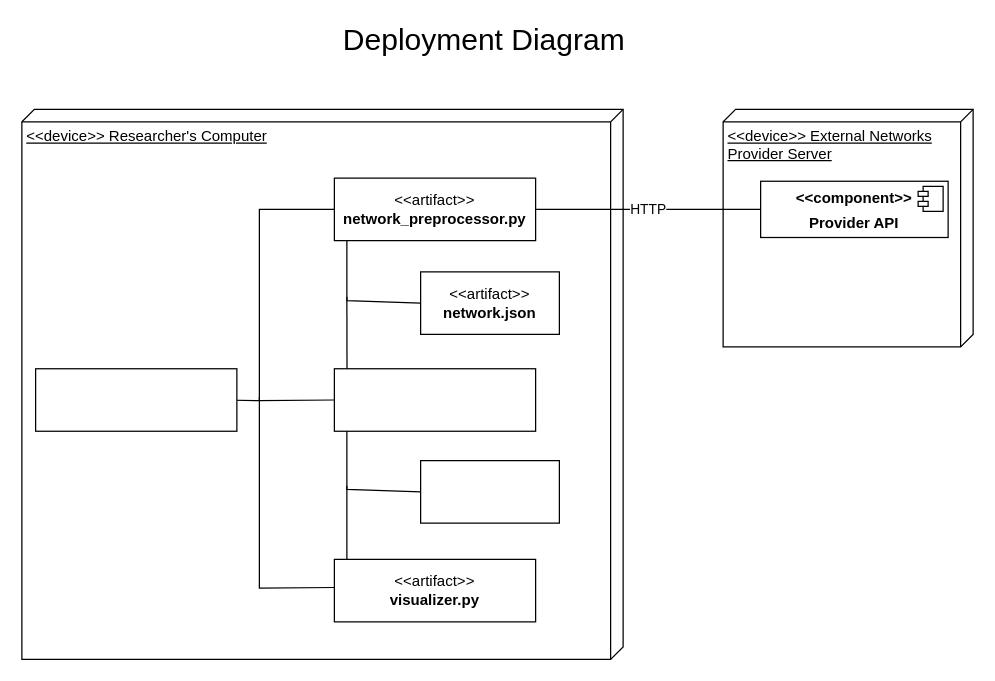
The diagram is 995 pixels wide and 681 high, and some of its shapes have lost their labels. The shapes that lost their labels are listed below. From the top down, each one's centre as x and y in pixels, then its label:
At point 135,399: "<<artifact>> interactor.py".
At point 434,399: "<<artifact>> solver.exe".
At point 489,491: "<<artifact>> results.json".
